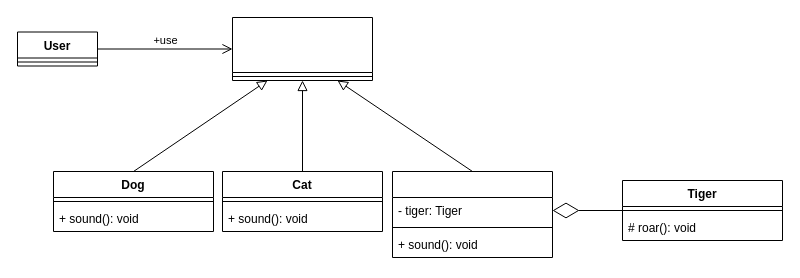
The diagram is 800 pixels wide and 278 high, and some of its shapes have lost their labels. Here are the shapes that lost their labels. From the top down, the box of each, then its label:
(232, 16, 372, 80): <<abstract>> Animal
(392, 170, 552, 258): TigerAdapter
